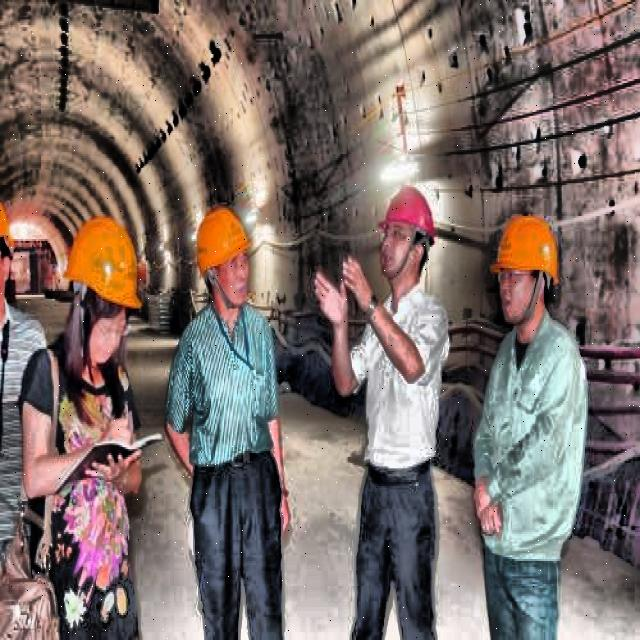helmet: (62, 218, 144, 362), (486, 210, 562, 328), (374, 177, 442, 293), (192, 204, 254, 308)
